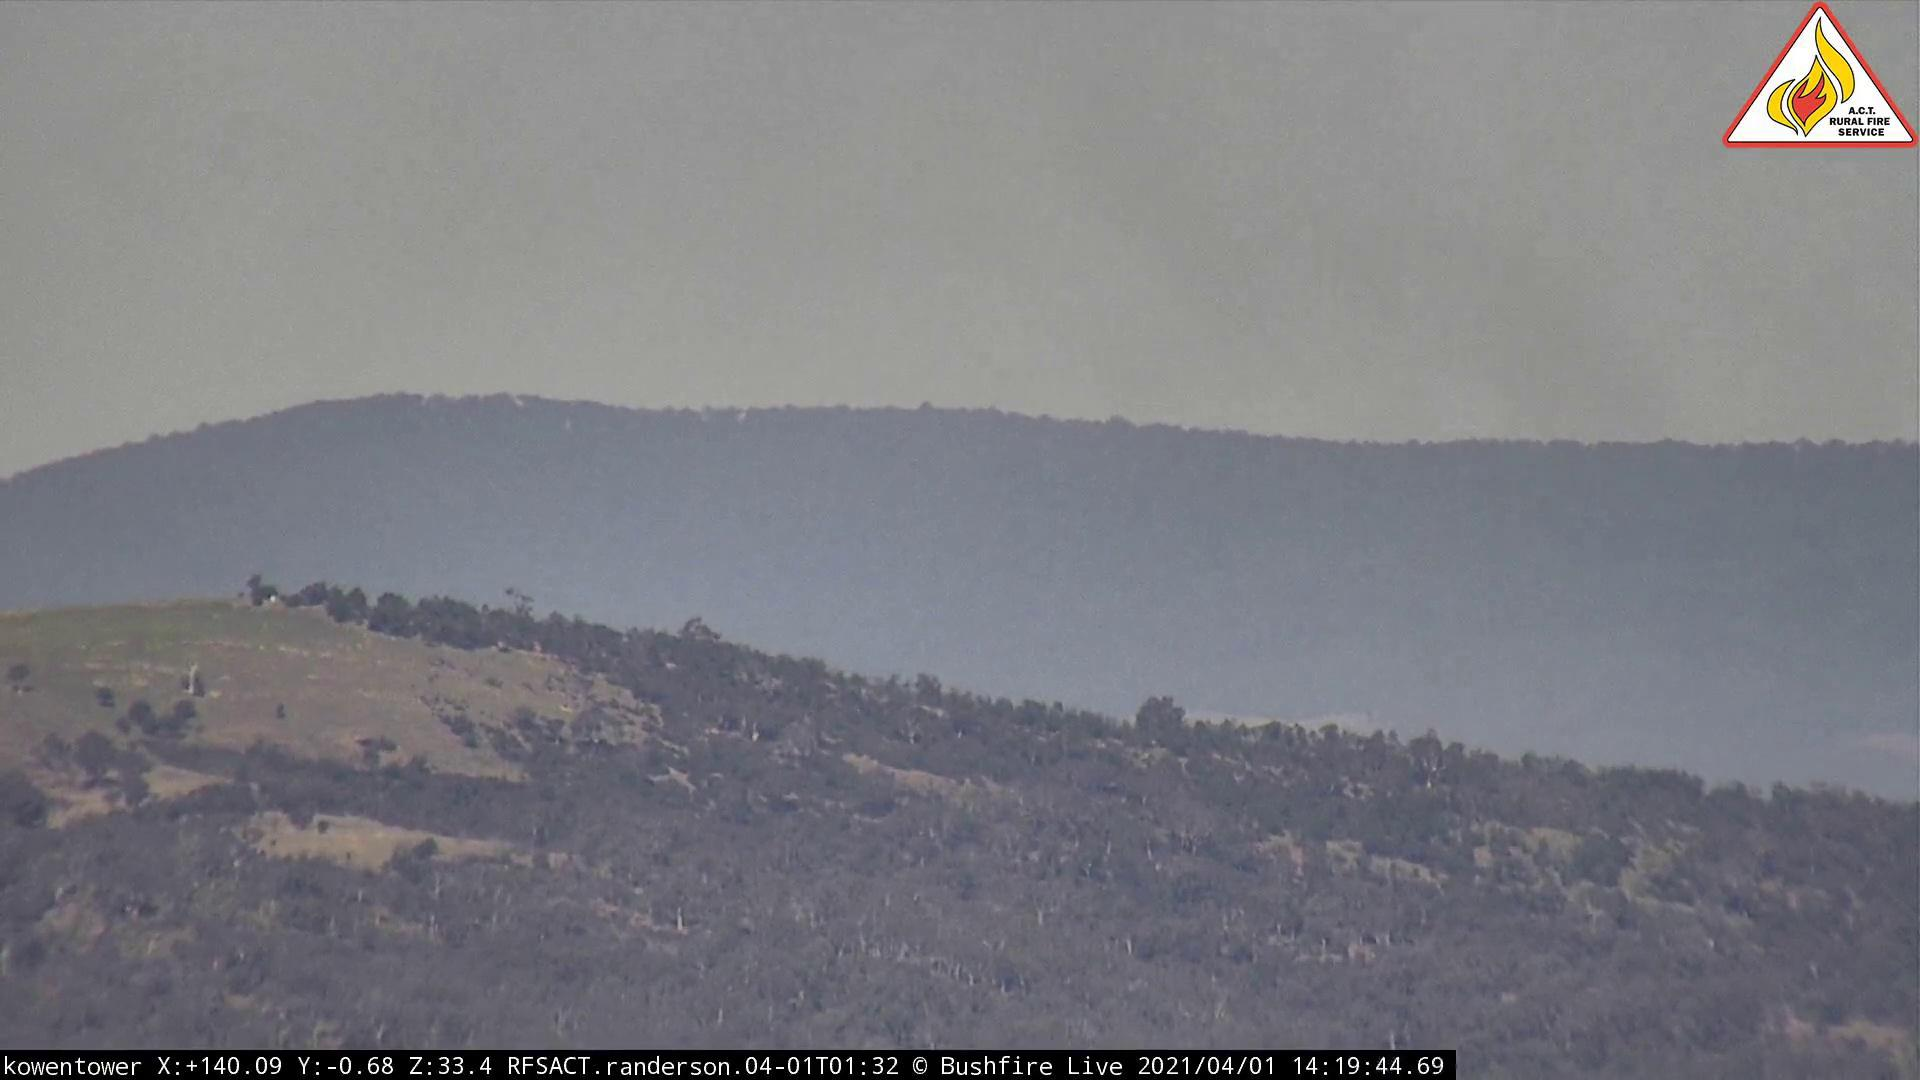Smoke: (1065, 53, 1712, 549)
